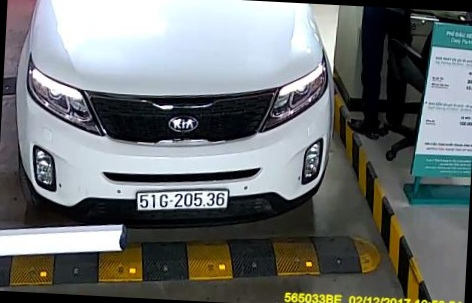plate: (128, 183, 235, 221)
